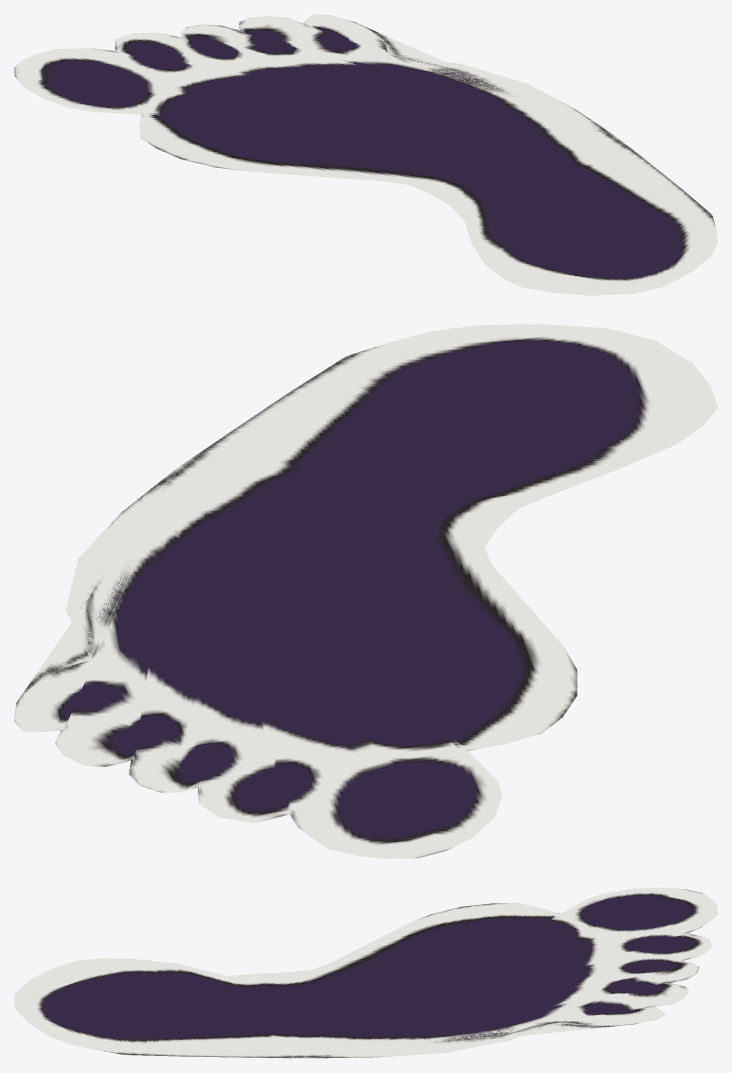
The model's file is PurpleRightFoot.fbx.
The picture shows the model from 3 angles, top to bottom: view 1: azimuth 30°, elevation 25°; view 2: azimuth 150°, elevation 25°; view 3: azimuth 270°, elevation 25°; orthographic projection. The views are drawn at different scales.
Visible parts, largest first — view 1: Plane.001; view 2: Plane.001; view 3: Plane.001.
Boxes of the visible parts, left/top/right/bottom form: Plane.001: left=14, top=14, right=717, bottom=295; Plane.001: left=14, top=324, right=717, bottom=858; Plane.001: left=14, top=887, right=717, bottom=1058.
Bounding box in the file's own units: 696 × 6.02 × 1211.
